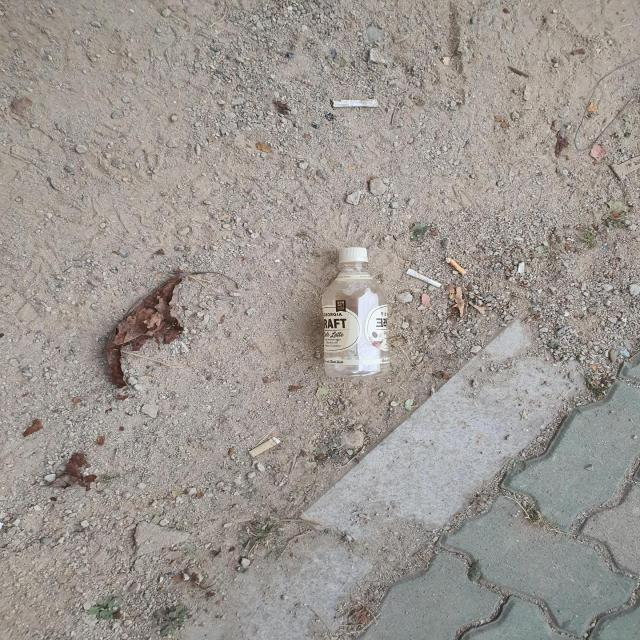plastic: (322, 248, 390, 378)
